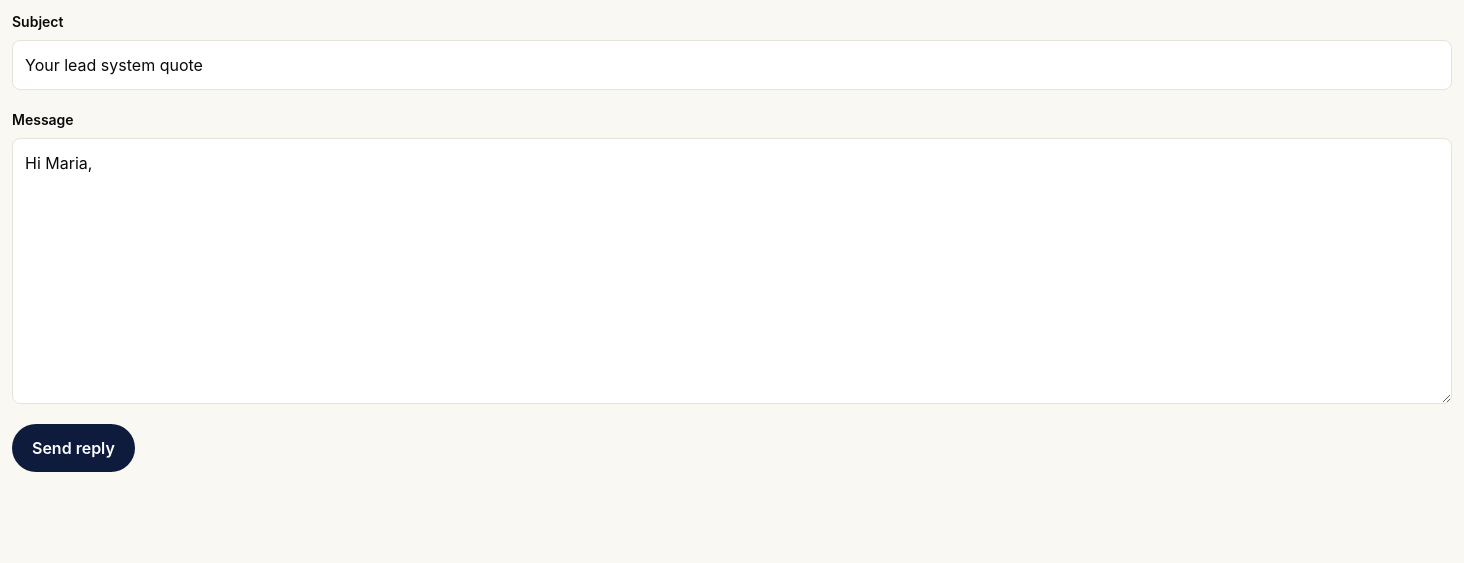
Test: LeadReplyDraft › sends the edited reply and confirms who it went to
Replace the text in the field labelled "Subject" with "Quick question": (732, 65) top-left (12, 40), bottom-right (1452, 90)
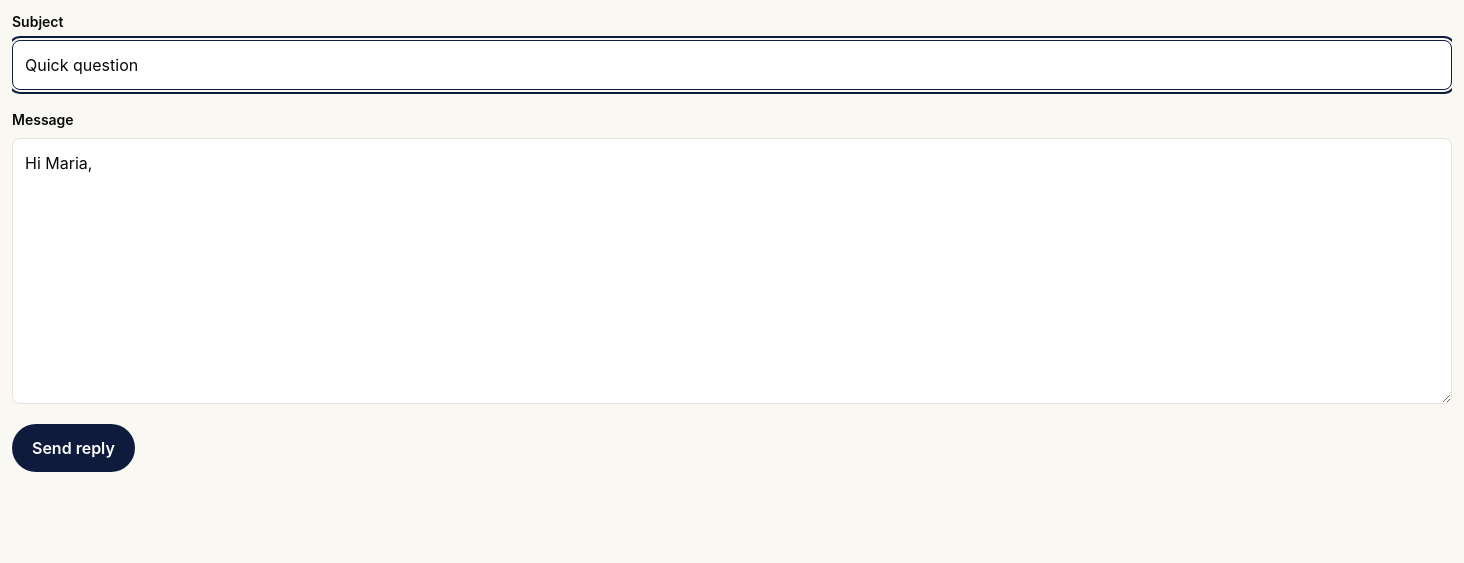
Click the button "Send reply": click(73, 448) top-left (12, 424), bottom-right (135, 472)
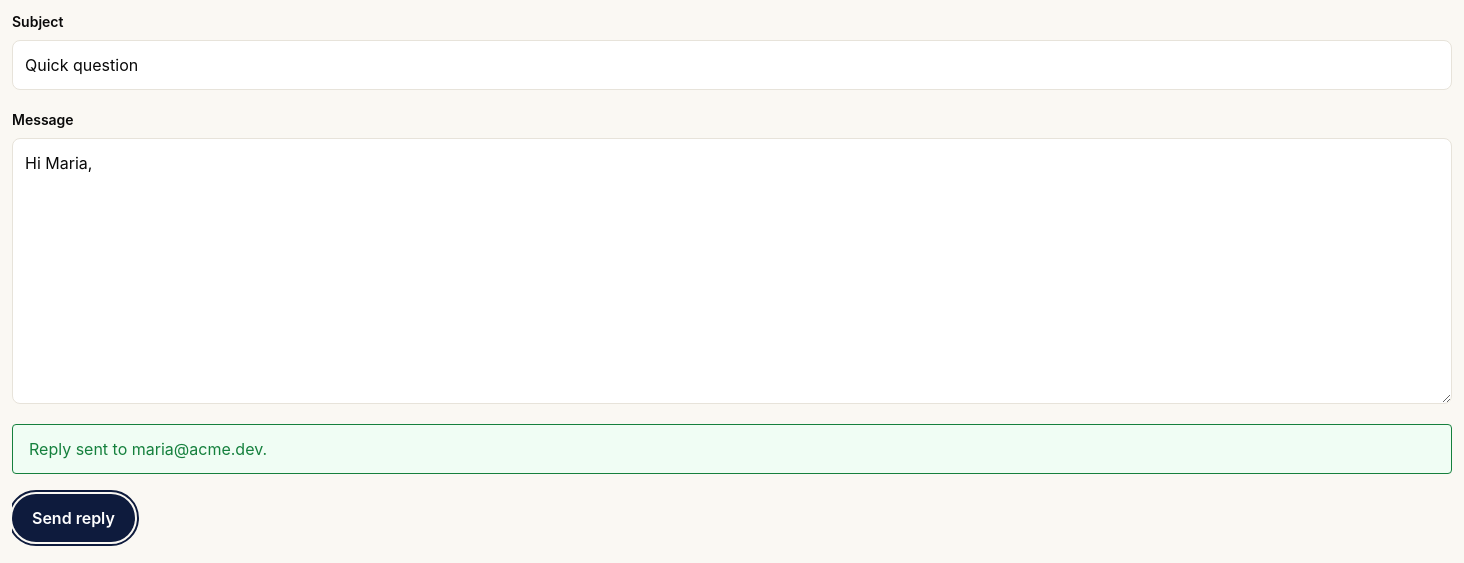
expect the message reads "Reply sent to maria@acme.dev.": met, box top-left (29, 439), bottom-right (267, 459)
